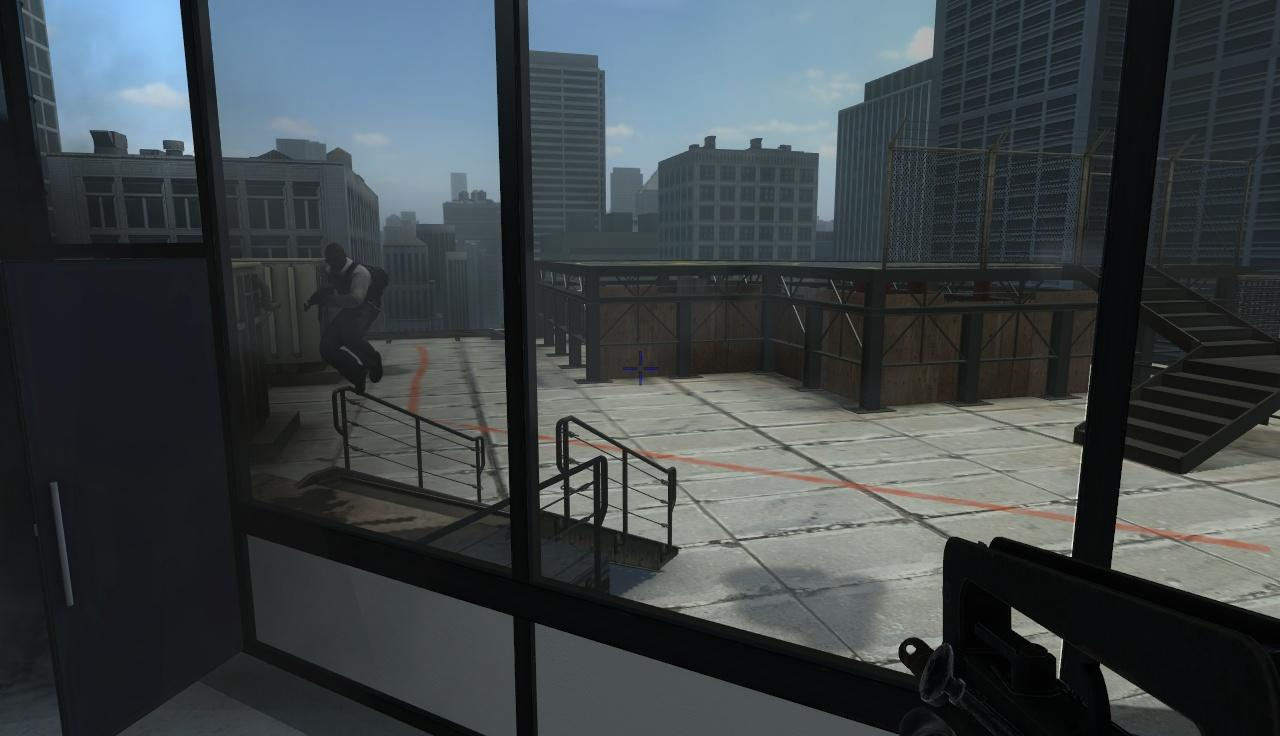rifle: (873, 522, 1280, 736)
tt: (318, 243, 380, 384)
tthead: (325, 244, 346, 270)
